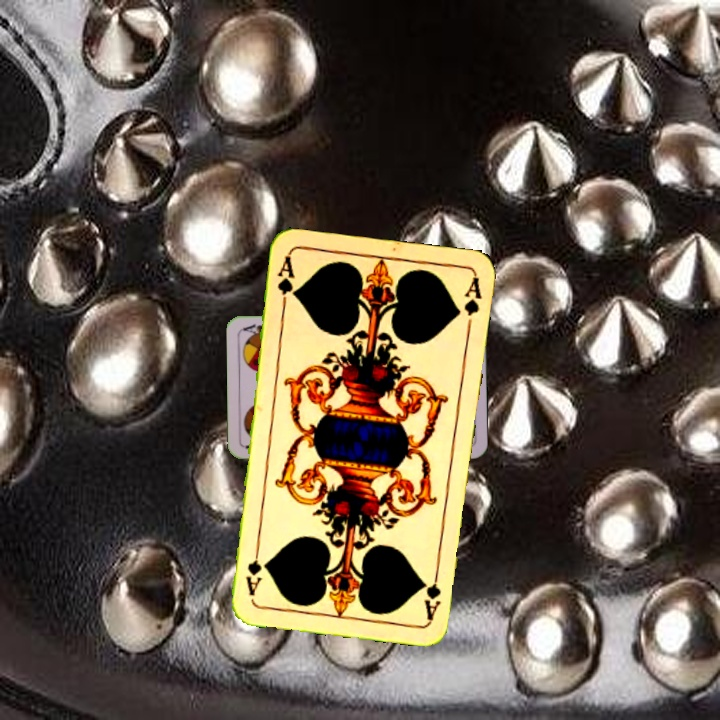GA: (273, 252, 299, 312), (421, 562, 444, 621)
